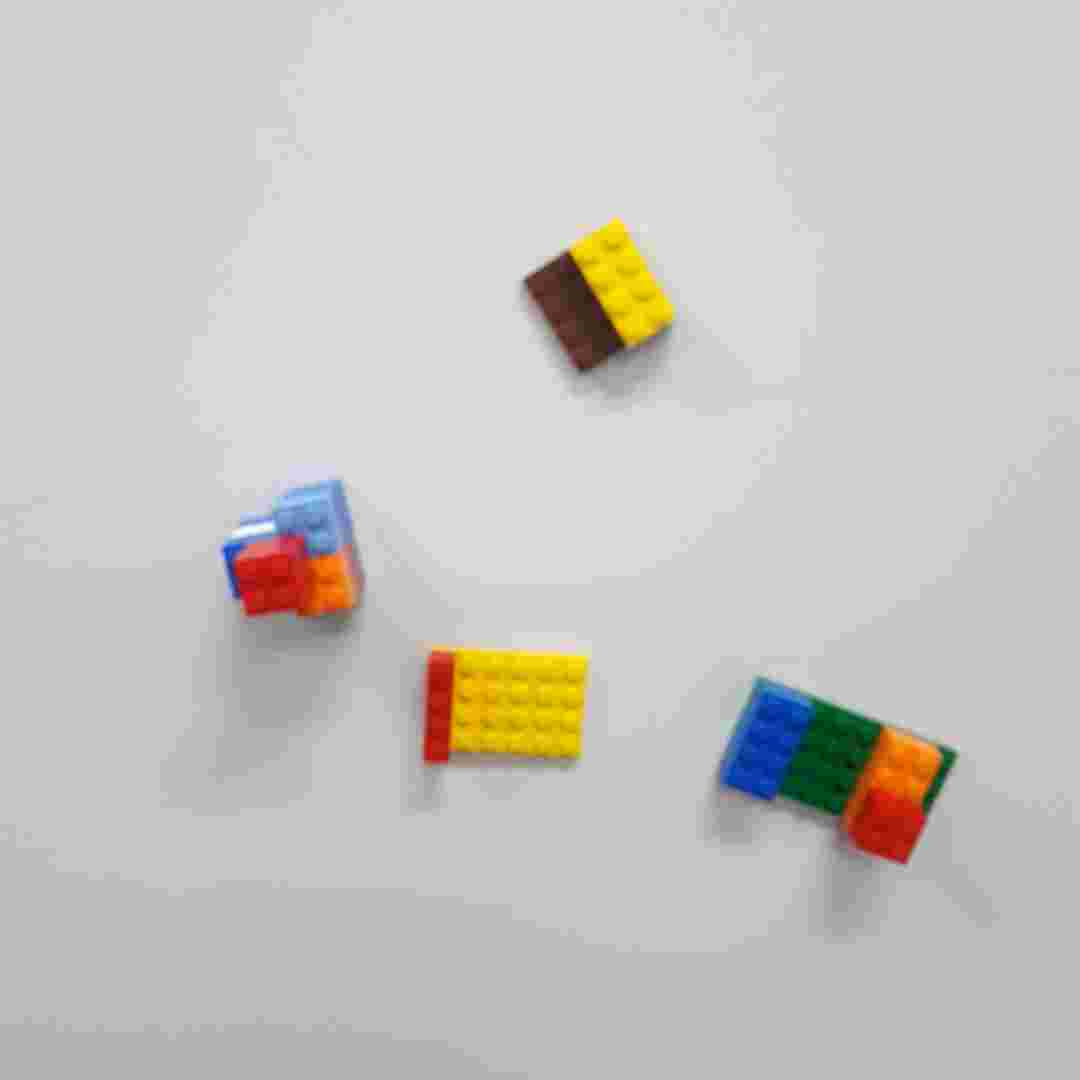LEGO: (711, 675, 966, 864), (522, 215, 678, 375), (419, 646, 594, 771), (221, 477, 375, 618)
